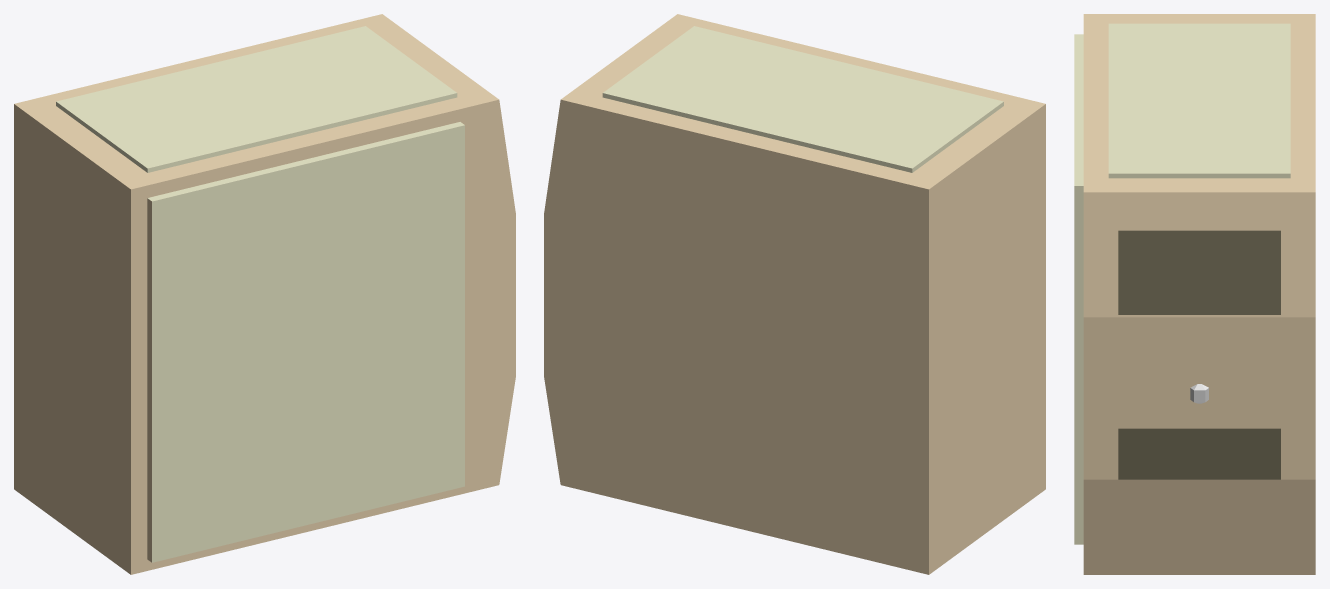
Rendered from pcOld.fbx.
3 renders of one model, left to right at view 1: azimuth 30°, elevation 25°; view 2: azimuth 150°, elevation 25°; view 3: azimuth 270°, elevation 25°, orthographic.
Parts seen in each view (by area): view 1: SidePanel, Main, TopSide; view 2: Main, TopSide; view 3: Front, Main, TopSide, Panel, Disk, SidePanel, Logo.
Boxes of the visible parts, x1,y1,x2,y2 form: SidePanel: (147, 122, 464, 562); Main: (14, 14, 515, 574); TopSide: (56, 26, 457, 172); Main: (544, 14, 1045, 574); TopSide: (602, 26, 1003, 172); Front: (1083, 317, 1315, 574); Main: (1083, 14, 1315, 317); TopSide: (1108, 23, 1290, 178); Panel: (1118, 230, 1280, 314); Disk: (1118, 428, 1280, 479); SidePanel: (1074, 34, 1083, 544); Logo: (1190, 384, 1208, 403).
Bounding box in the file's own units: 212 × 202 × 114.
